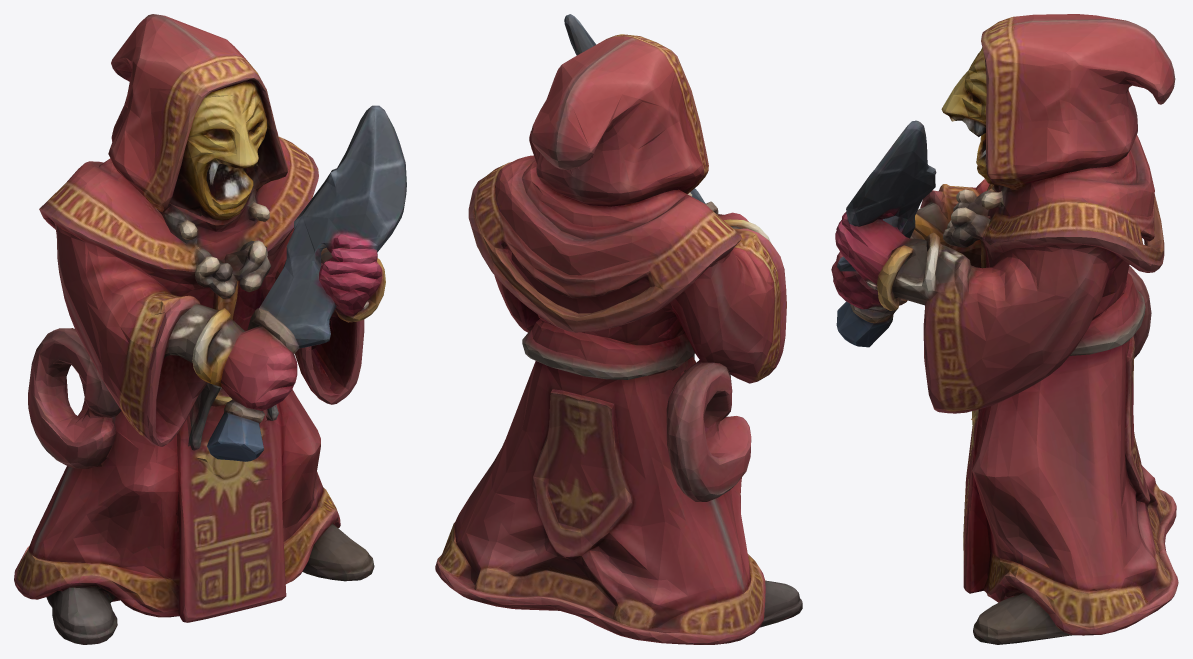
Rendered from sunmawCultist.glb.
3 renders of one model, left to right at view 1: azimuth 30°, elevation 25°; view 2: azimuth 150°, elevation 25°; view 3: azimuth 270°, elevation 25°, orthographic.
Parts seen in each view (by area): view 1: world; view 2: world; view 3: world.
Part boxes in pixels (left/top/right/bottom): world: left=14, top=14, right=406, bottom=644; world: left=435, top=14, right=802, bottom=644; world: left=831, top=14, right=1178, bottom=644.
Size of the model in its own units: 0.5974 by 0.9989 by 0.5686.
1 material, 1 textured.
